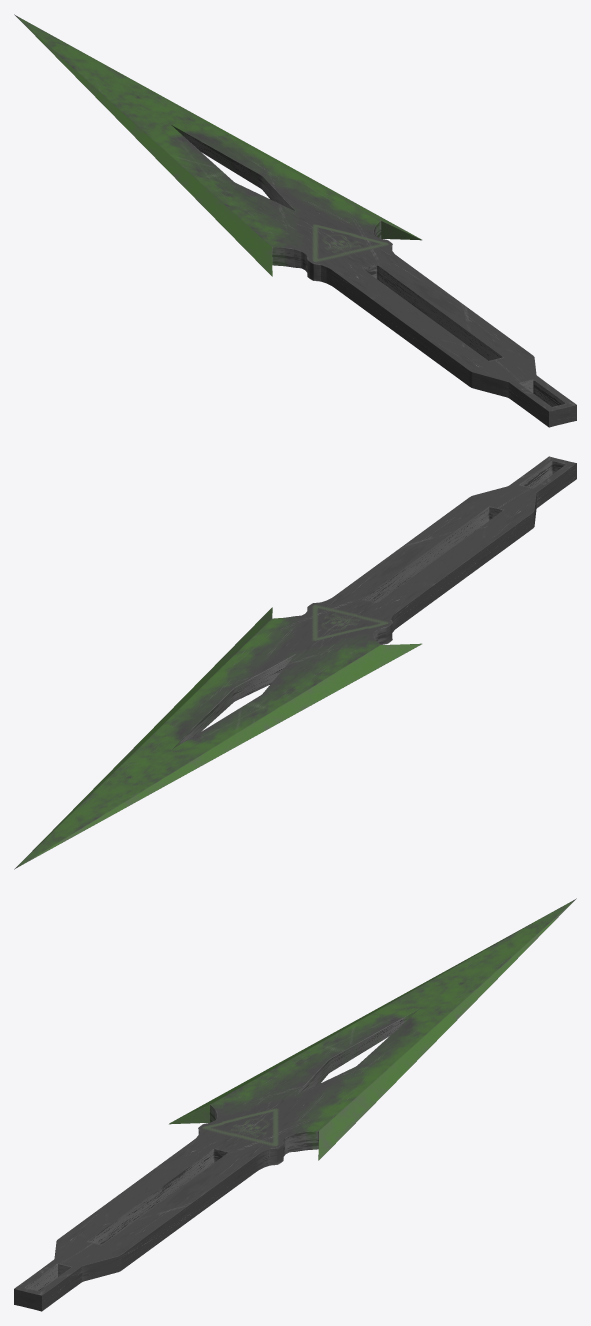
File: PoisonSketchfab.fbx
3 views of the same model, one above another, from view 1: azimuth 30°, elevation 25°; view 2: azimuth 150°, elevation 25°; view 3: azimuth 330°, elevation 25° (orthographic).
Visible parts, largest first — view 1: Cube, Cube.001; view 2: Cube, Cube.001; view 3: Cube, Cube.001.
Boxes of the visible parts, left/top/right/bottom form: Cube: left=14, top=14, right=576, bottom=427; Cube.001: left=15, top=15, right=421, bottom=276; Cube: left=14, top=456, right=576, bottom=869; Cube.001: left=16, top=607, right=421, bottom=867; Cube: left=14, top=898, right=576, bottom=1311; Cube.001: left=169, top=899, right=575, bottom=1160.
Size of the model in its own units: 473 by 66.04 by 2998.
